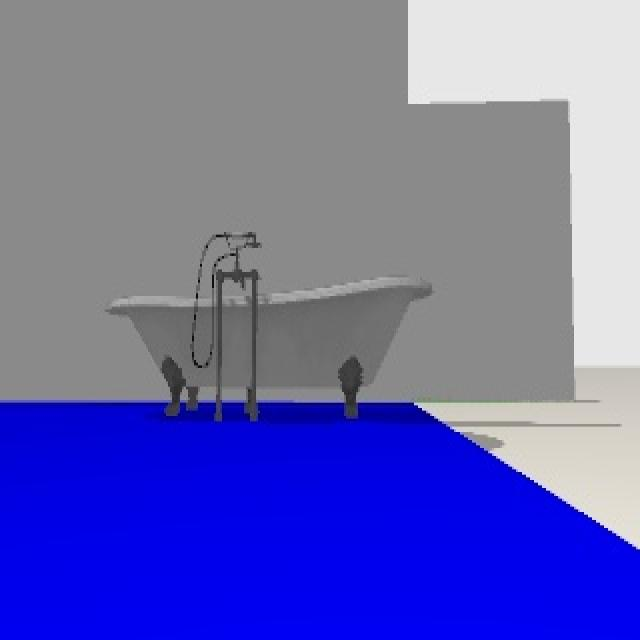bathtub: (106, 232, 434, 421)
